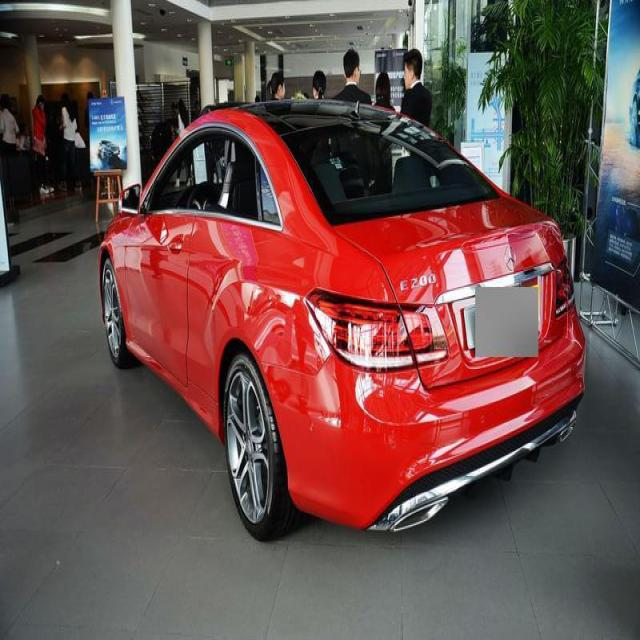back_glass: (281, 115, 500, 233)
back_left_side_light: (303, 284, 451, 373)
back_right_side_light: (555, 252, 577, 322)
door: (171, 130, 261, 390)
front_left_side_door: (122, 119, 225, 390)
front_left_side_mirror: (116, 180, 142, 217)
rear_bumper: (259, 319, 584, 534)
wheel: (223, 353, 294, 542), (101, 260, 138, 370)
